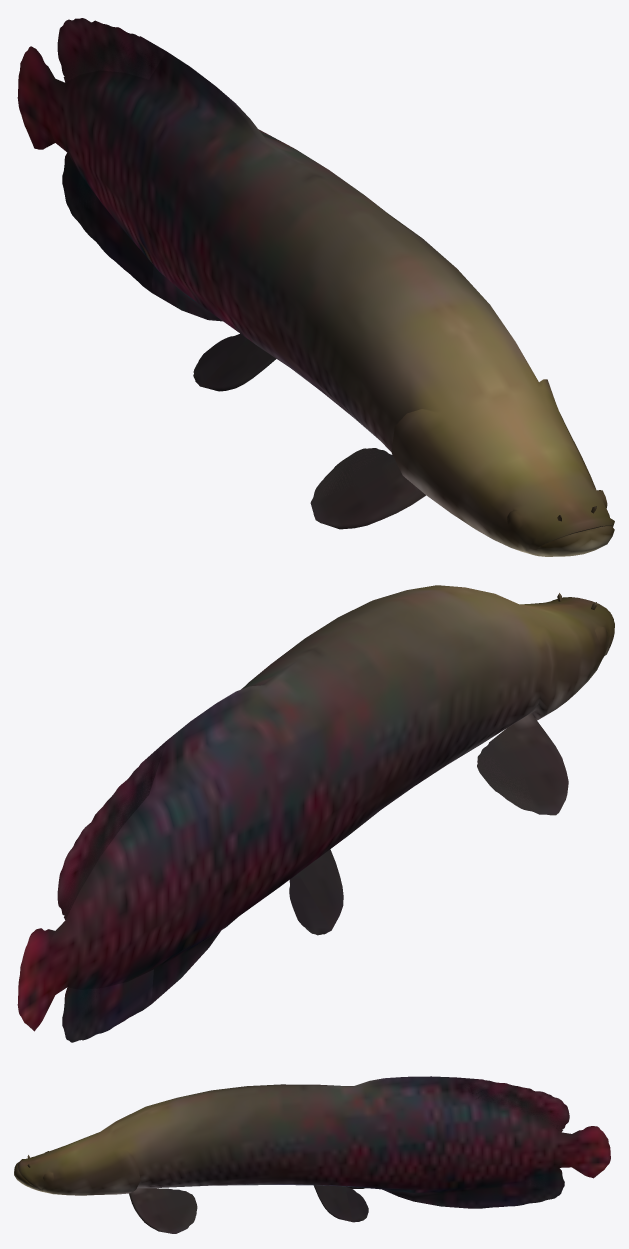
Rendered from arapaima.glb.
3 views of the same model, one above another, from view 1: azimuth 30°, elevation 25°; view 2: azimuth 150°, elevation 25°; view 3: azimuth 270°, elevation 25° (orthographic). The views are drawn at different scales.
Size of the model in its own units: 7.91 by 7.75 by 31.9.
Materials: 1 (1 with a texture image).
